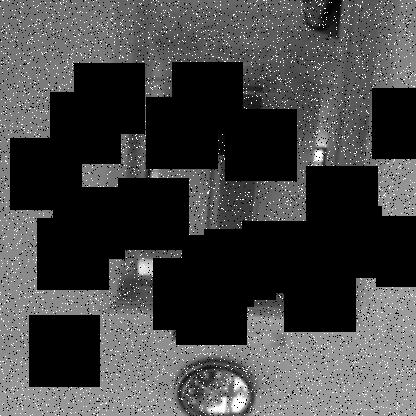Porte: (95, 1, 399, 329)
